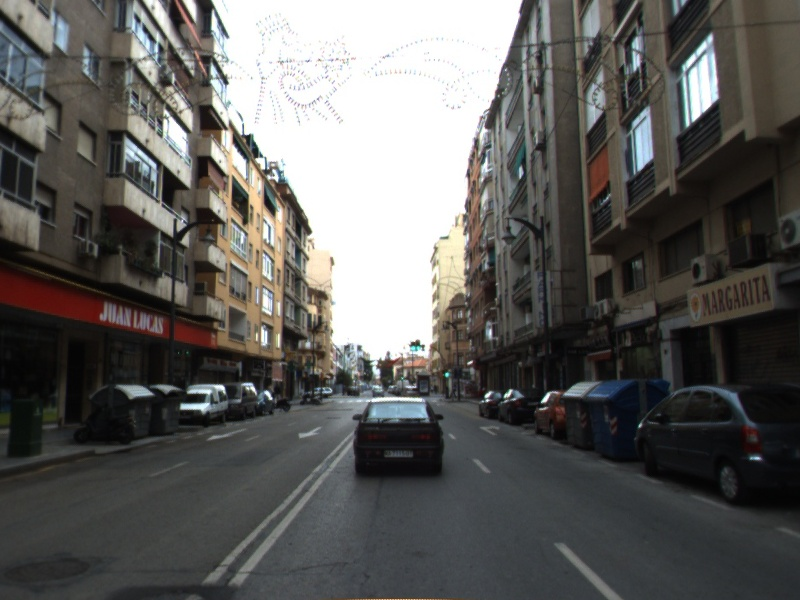RIGHT: (478, 423, 501, 437)
